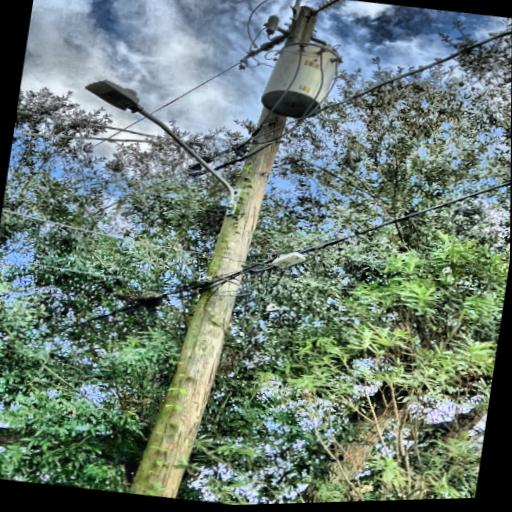pole: (80, 0, 328, 510)
street light: (65, 68, 264, 223)
transformer: (257, 33, 346, 124)
